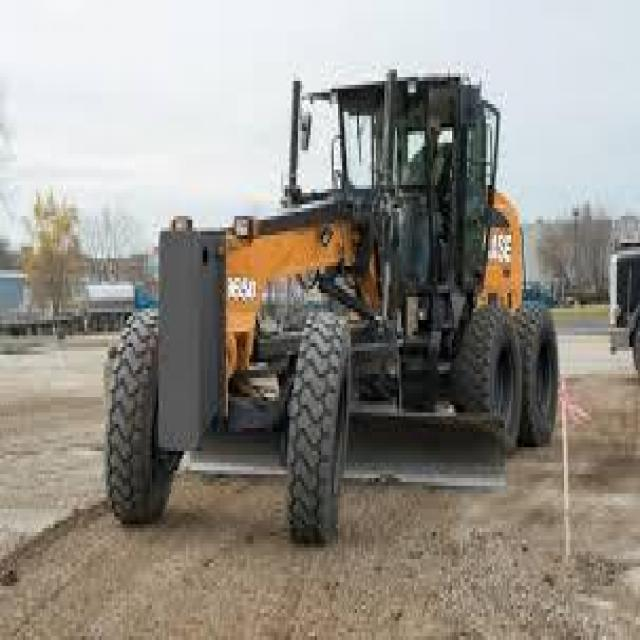Grader: (93, 35, 568, 598)
